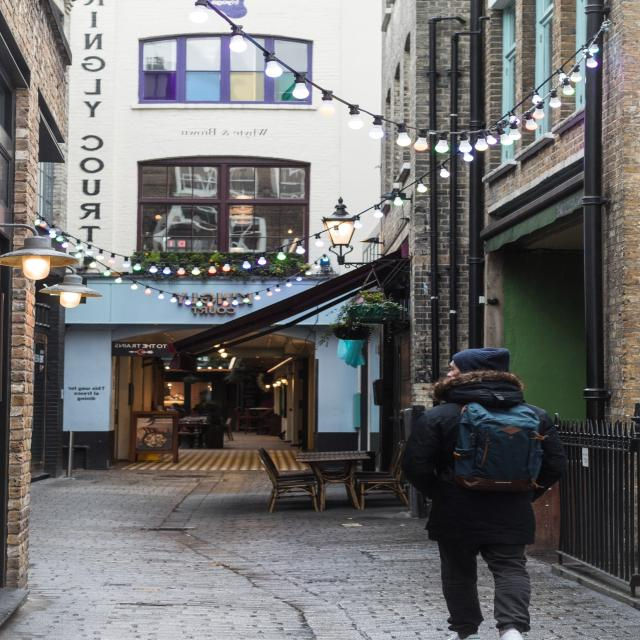adult: (398, 346, 565, 640)
